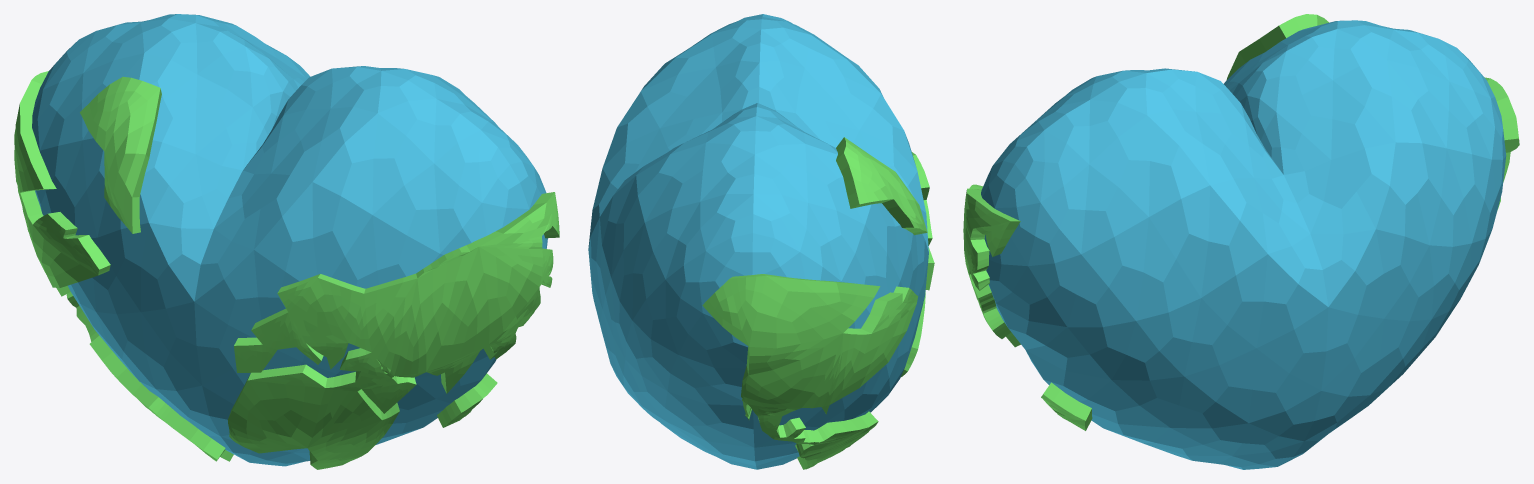
Rendered from hearth.fbx.
The picture shows the model from 3 angles, left to right: view 1: azimuth 30°, elevation 25°; view 2: azimuth 150°, elevation 25°; view 3: azimuth 270°, elevation 25°; orthographic projection. The views are drawn at different scales.
Parts seen in each view (by area): view 1: Plane, Plane.001; view 2: Plane, Plane.001; view 3: Plane, Plane.001.
Part boxes in pixels (box(x1,y1,x2,y2)): Plane: box(32, 14, 547, 466); Plane.001: box(14, 71, 559, 469); Plane: box(588, 14, 928, 469); Plane.001: box(702, 137, 934, 469); Plane: box(981, 20, 1506, 469); Plane.001: box(963, 14, 1519, 430).
Bounding box in the file's own units: 1056 × 1121 × 1380.
